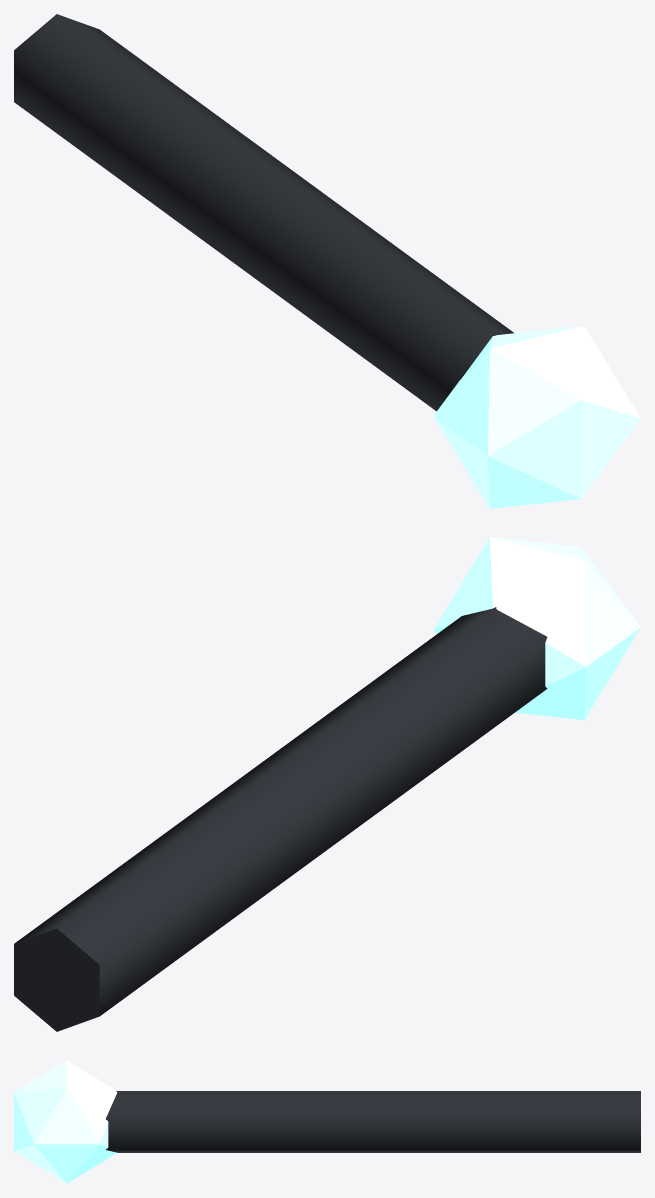
File: fw_rod.glb
3 renders of one model, top to bottom at view 1: azimuth 30°, elevation 25°; view 2: azimuth 150°, elevation 25°; view 3: azimuth 270°, elevation 25°, orthographic. The views are drawn at different scales.
Visible parts, largest first — view 1: fw_rod; view 2: fw_rod; view 3: fw_rod.
Boxes of the visible parts, left/top/right/bottom form: fw_rod: left=14, top=14, right=640, bottom=508; fw_rod: left=14, top=537, right=640, bottom=1031; fw_rod: left=14, top=1060, right=640, bottom=1183.
Bounding box in the file's own units: 0.0681 × 0.0681 × 0.404.
